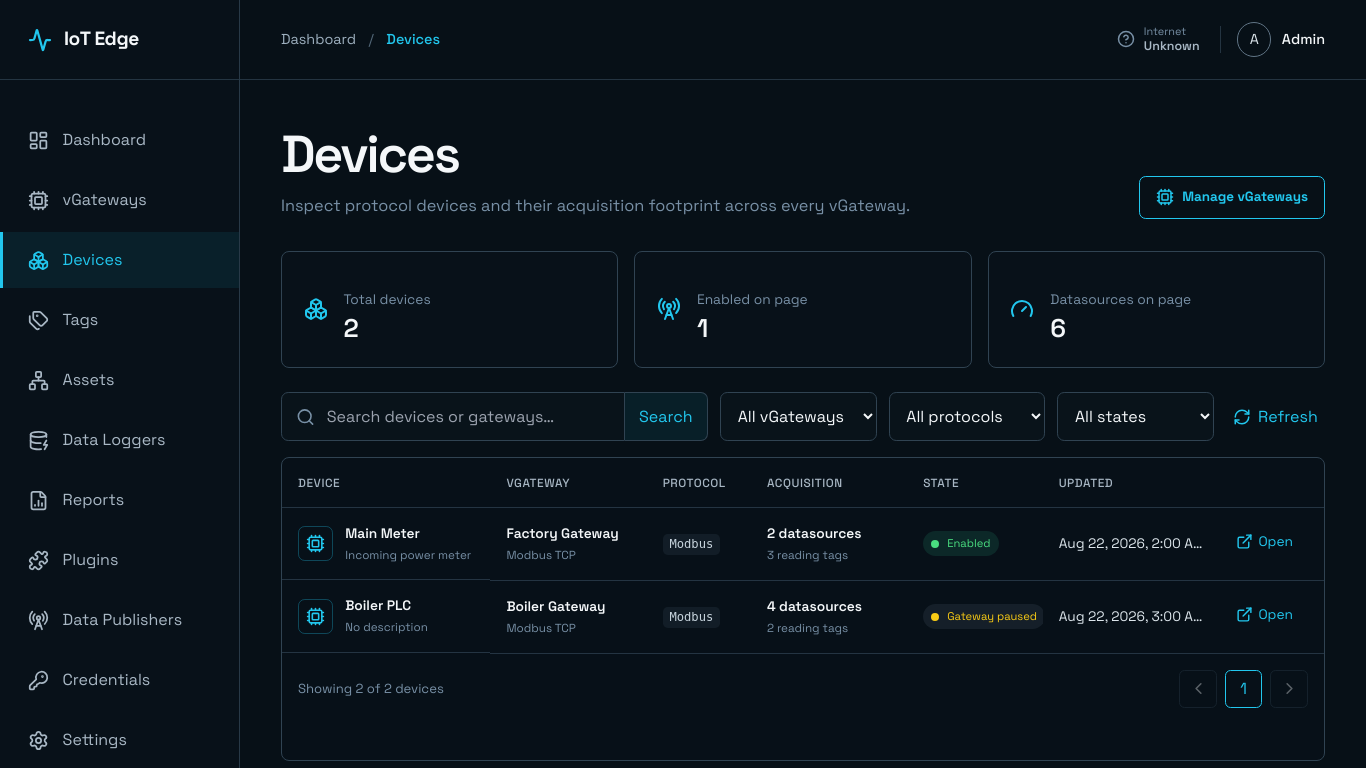
DeviceListPage › applies gateway, protocol, state, and search filters through the URL
Expected: the text "Main Meter" is shown, top-left (345, 524), bottom-right (420, 542)
Select "Factory Gateway" in the dropdown named "vGateway" at (798, 417), box top-left (720, 392), bottom-right (877, 441)
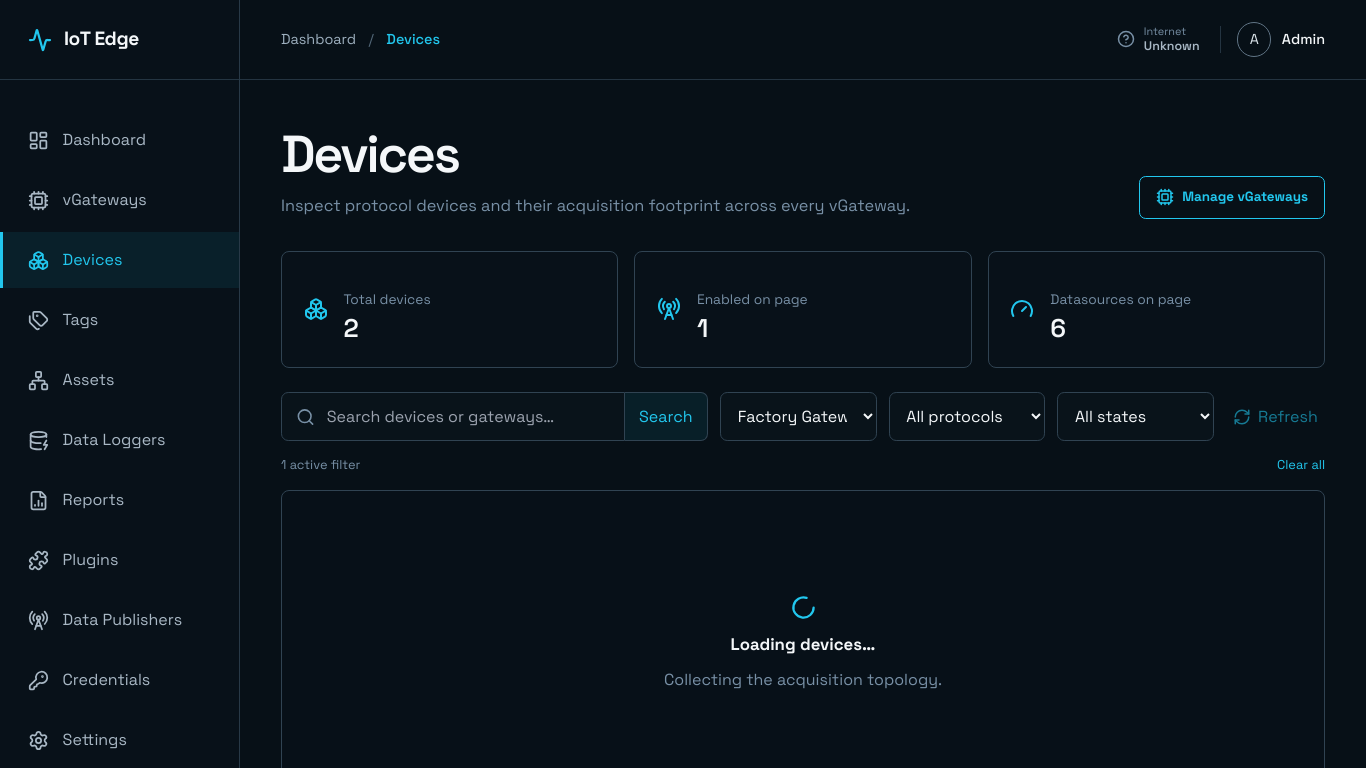
Select "Modbus" in the dropdown named "Device type" at (967, 417), box top-left (888, 392), bottom-right (1045, 441)
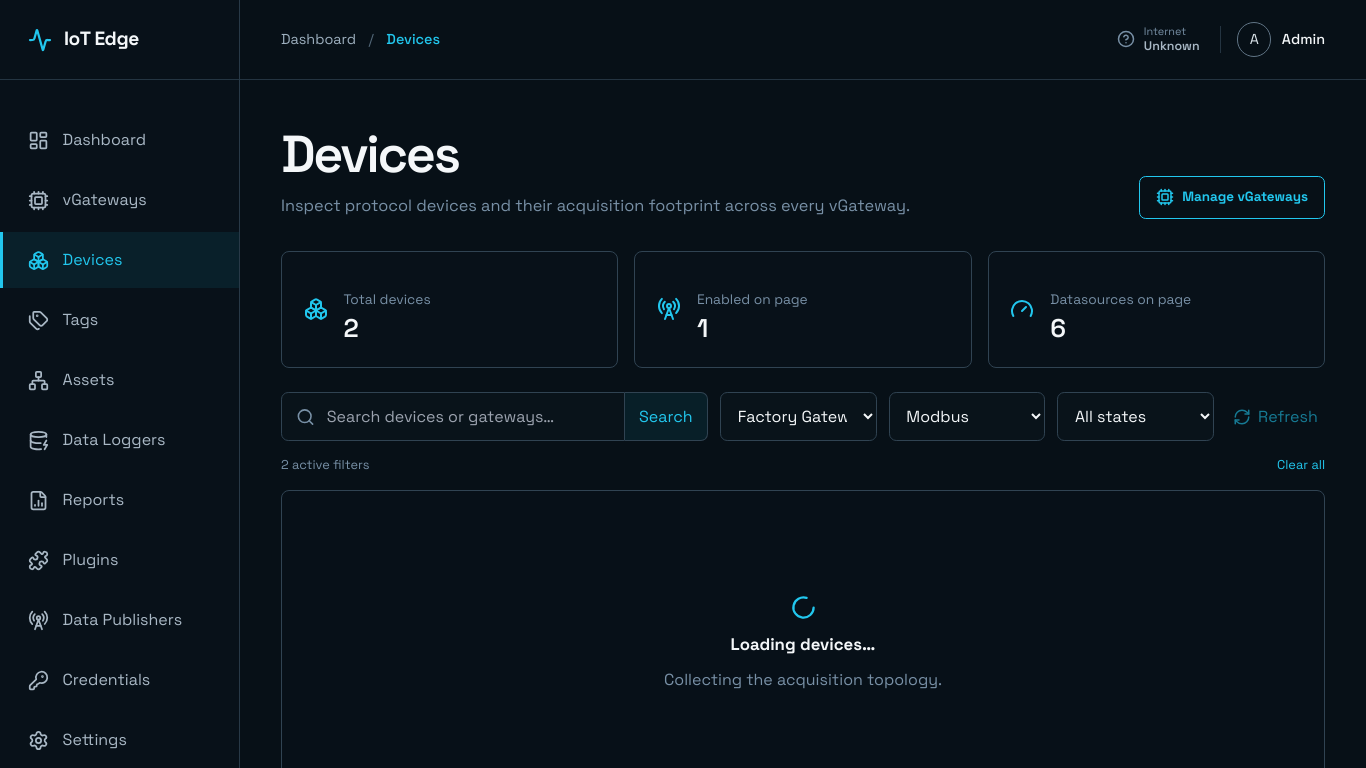
Select "Enabled" in the dropdown named "Enabled state" at (1135, 417), box top-left (1057, 392), bottom-right (1214, 441)
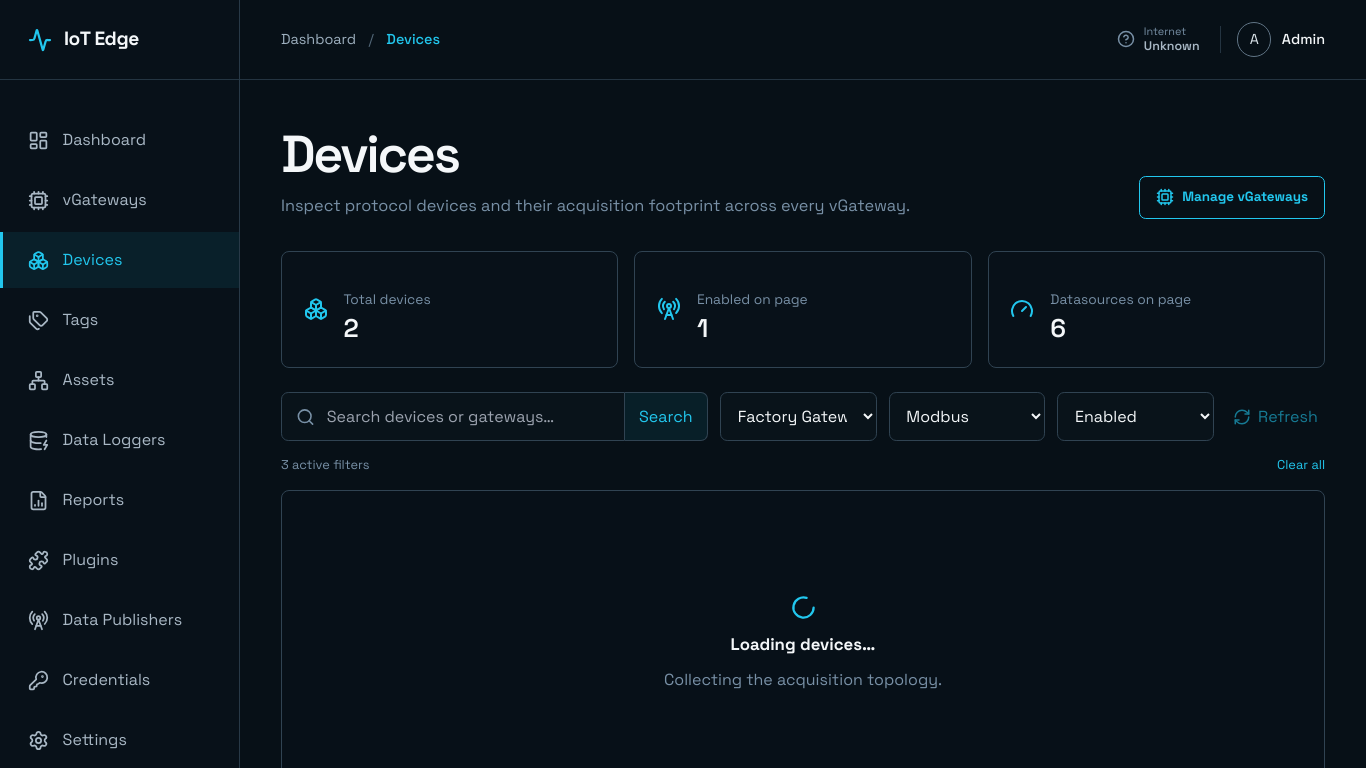
Type " meter " into the search field labelled "Search devices".
click(453, 417); type(" meter ")  # box top-left (281, 392), bottom-right (625, 441)
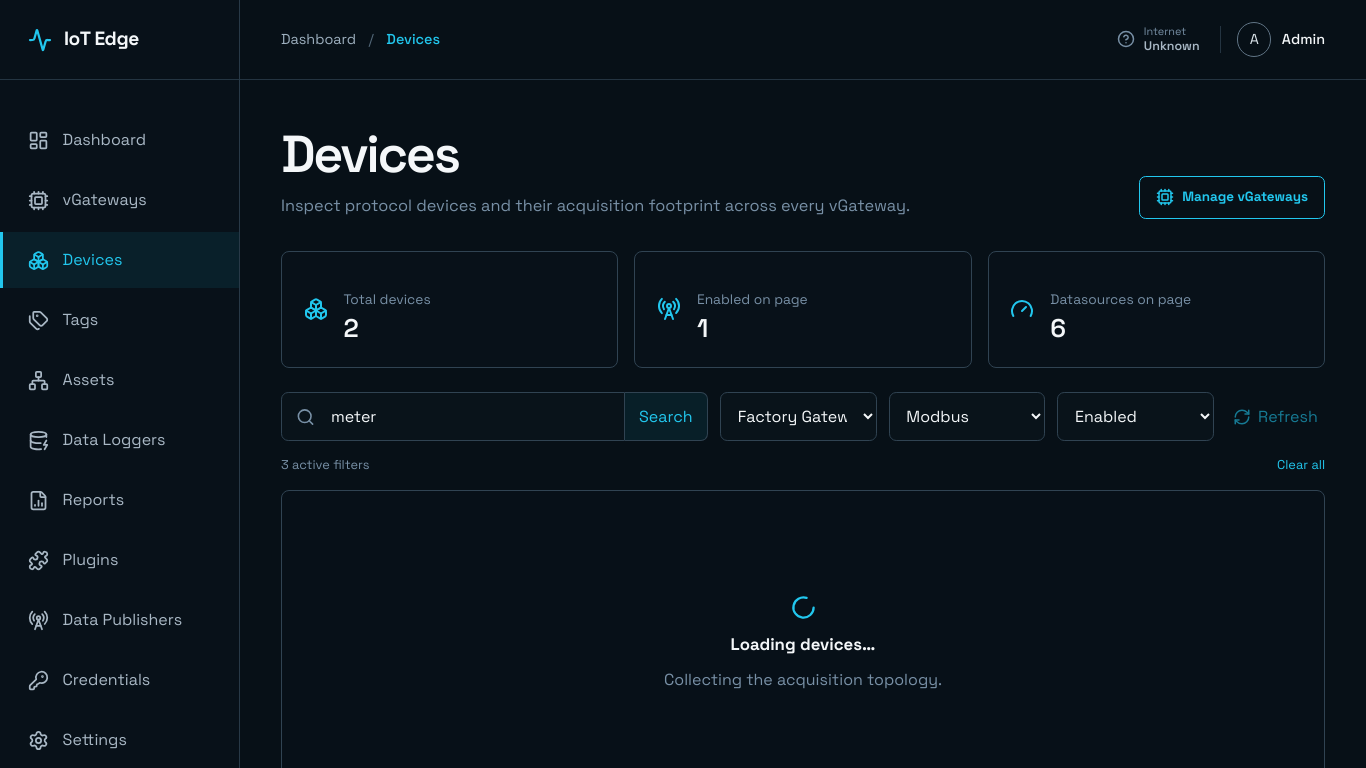
Click the button "Search".
click(666, 417)  # box top-left (625, 392), bottom-right (708, 441)
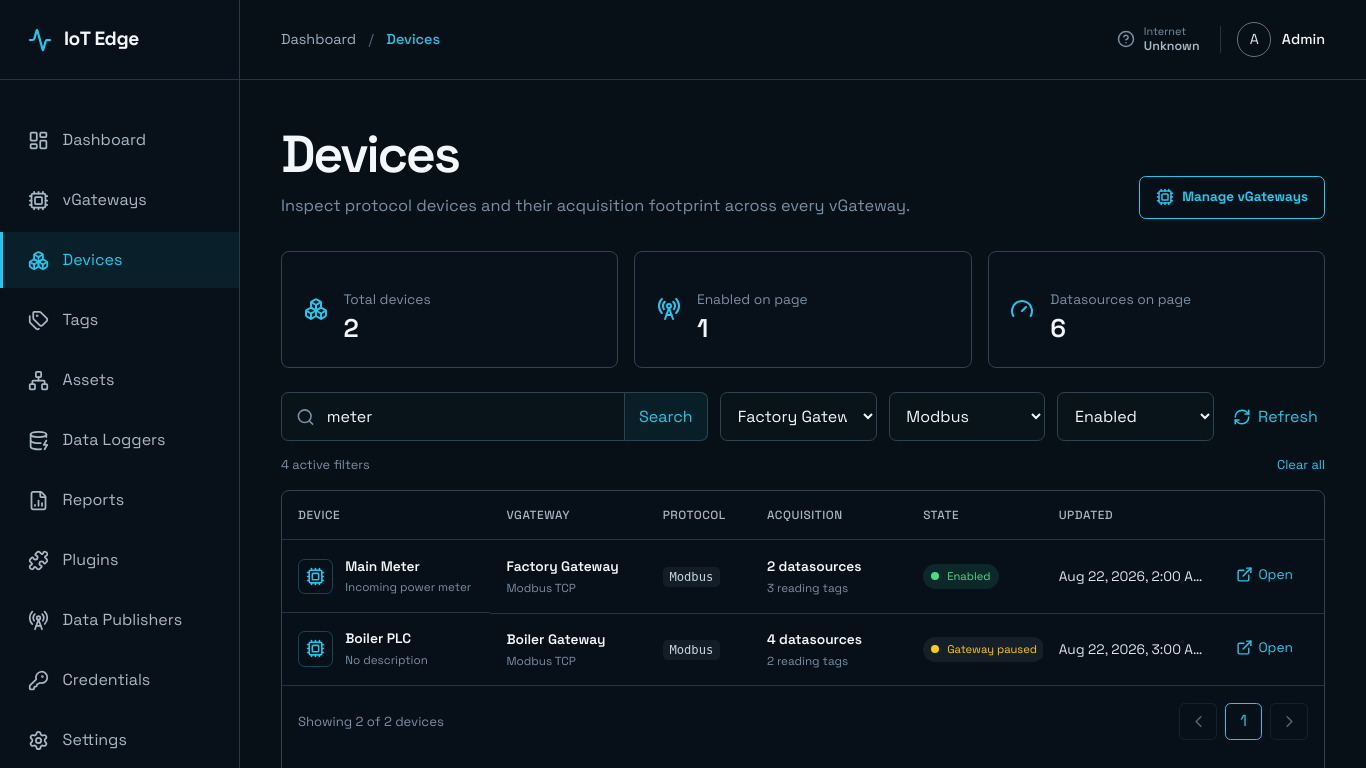
Now the text "4 active filters" is shown, box top-left (281, 455), bottom-right (370, 474)
